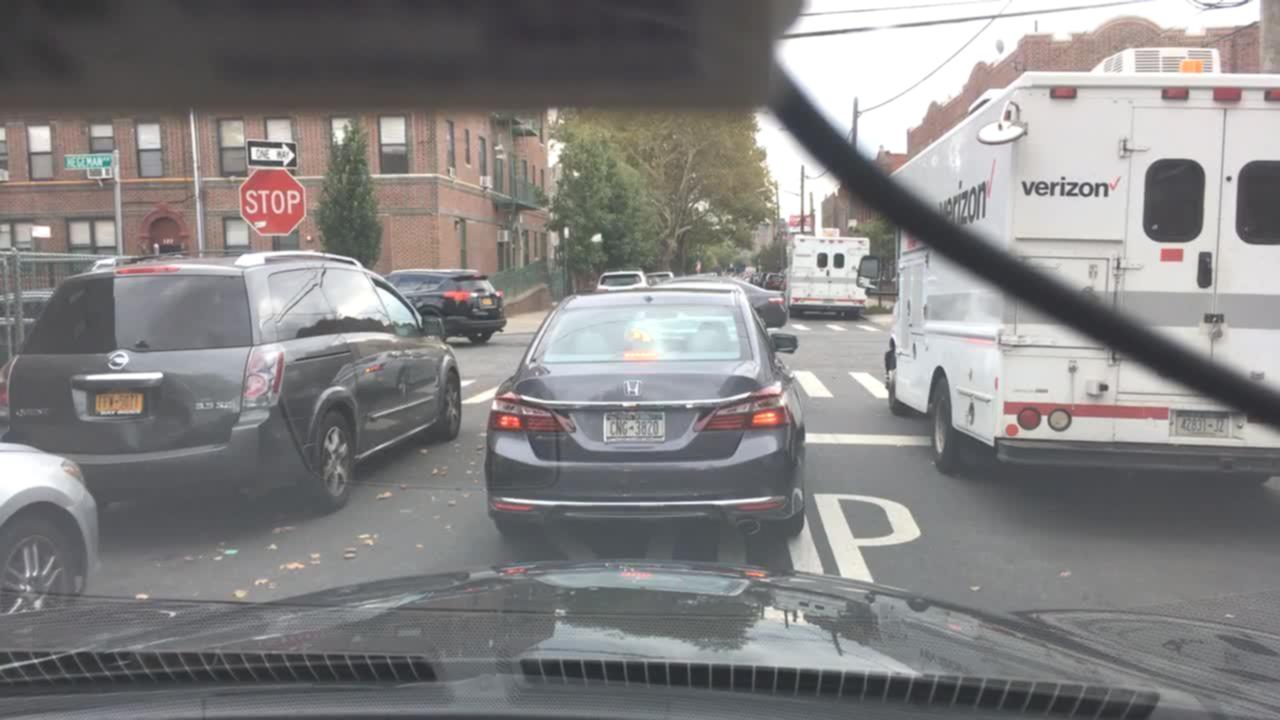Honda: (614, 376, 652, 407)
Nissan: (102, 346, 132, 376)
